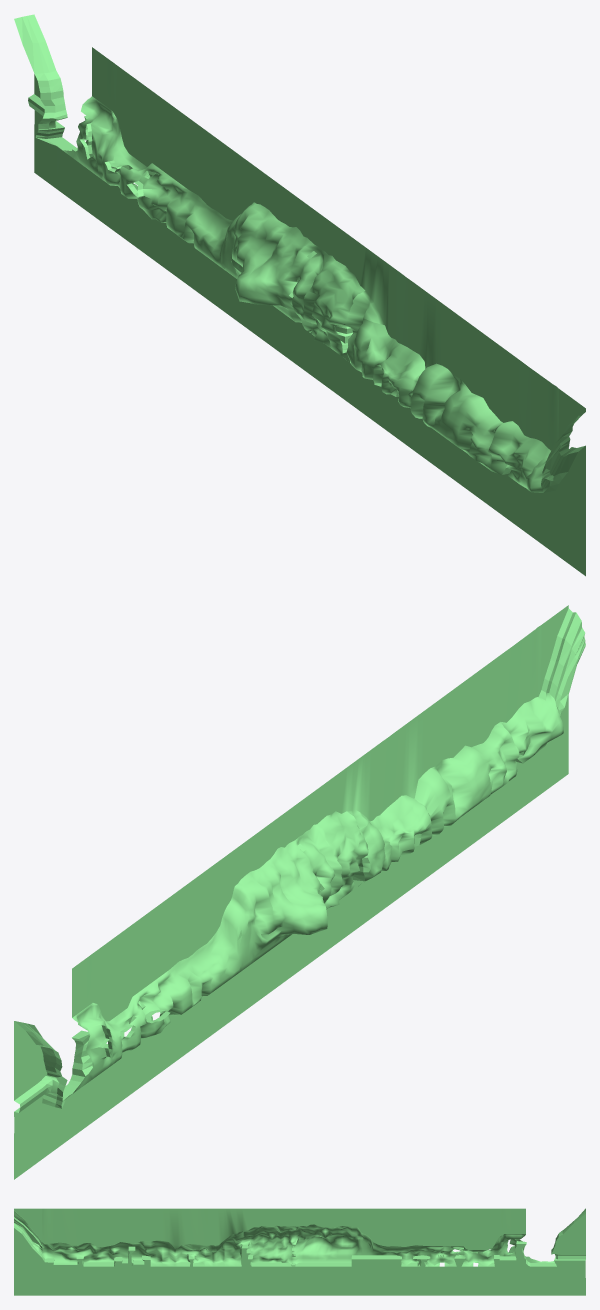
The model's file is Level 2 mesh 1.FBX.
3 views of the same model, one above another, from view 1: azimuth 30°, elevation 25°; view 2: azimuth 150°, elevation 25°; view 3: azimuth 270°, elevation 25° (orthographic). The views are drawn at different scales.
Parts seen in each view (by area): view 1: part 007; view 2: part 007; view 3: part 007.
Part boxes in pixels (x1=…): part 007: x1=14, y1=14, x2=585, y2=576; part 007: x1=14, y1=605, x2=585, y2=1179; part 007: x1=14, y1=1208, x2=585, y2=1295.
Size of the model in its own units: 1719 by 5080 by 30216.
